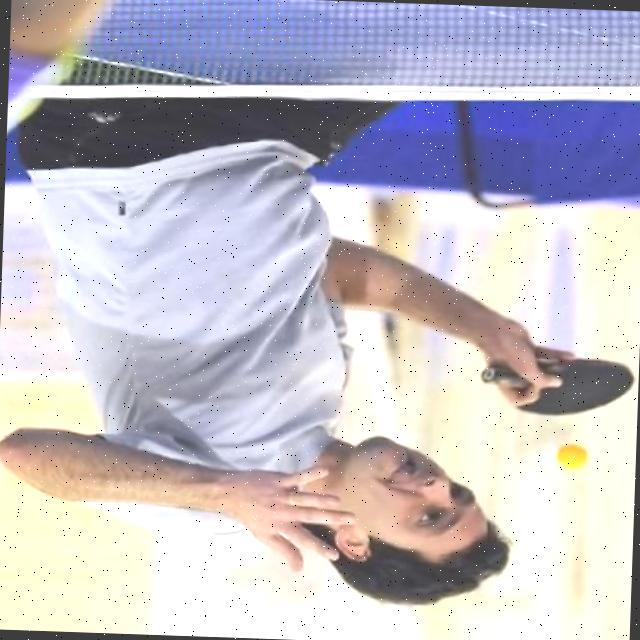ping-pong-ball: (552, 443, 590, 471)
